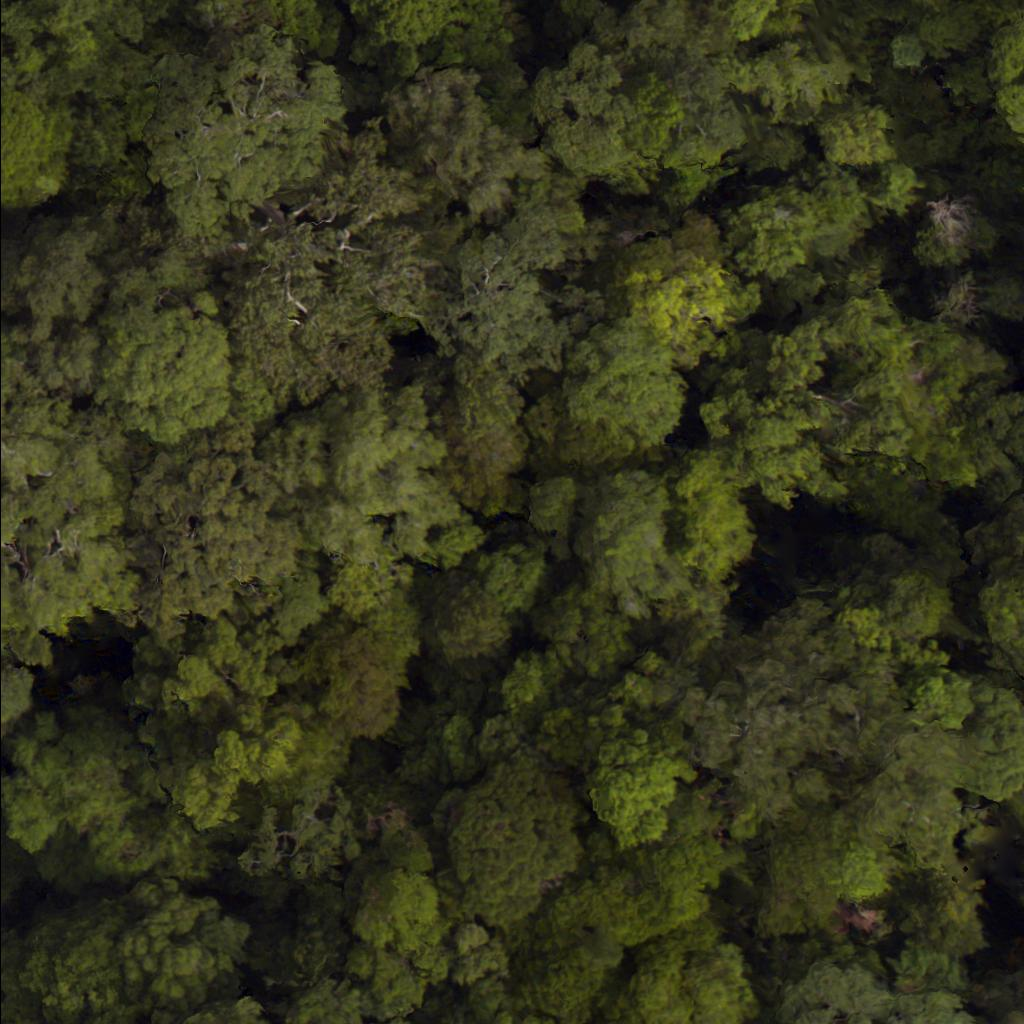crown: (200, 125, 447, 398), (0, 346, 159, 651), (117, 629, 322, 845), (138, 26, 351, 232), (122, 408, 317, 628), (0, 718, 167, 880), (290, 379, 446, 519), (97, 287, 230, 447), (0, 0, 156, 107), (11, 901, 138, 1023), (0, 216, 108, 340), (134, 896, 257, 993), (306, 614, 388, 746), (0, 95, 77, 207), (248, 559, 329, 660), (307, 495, 380, 569), (0, 646, 41, 736), (290, 973, 362, 1023), (192, 0, 272, 41), (228, 367, 292, 417), (270, 0, 341, 43), (326, 566, 379, 618), (178, 995, 258, 1023)
